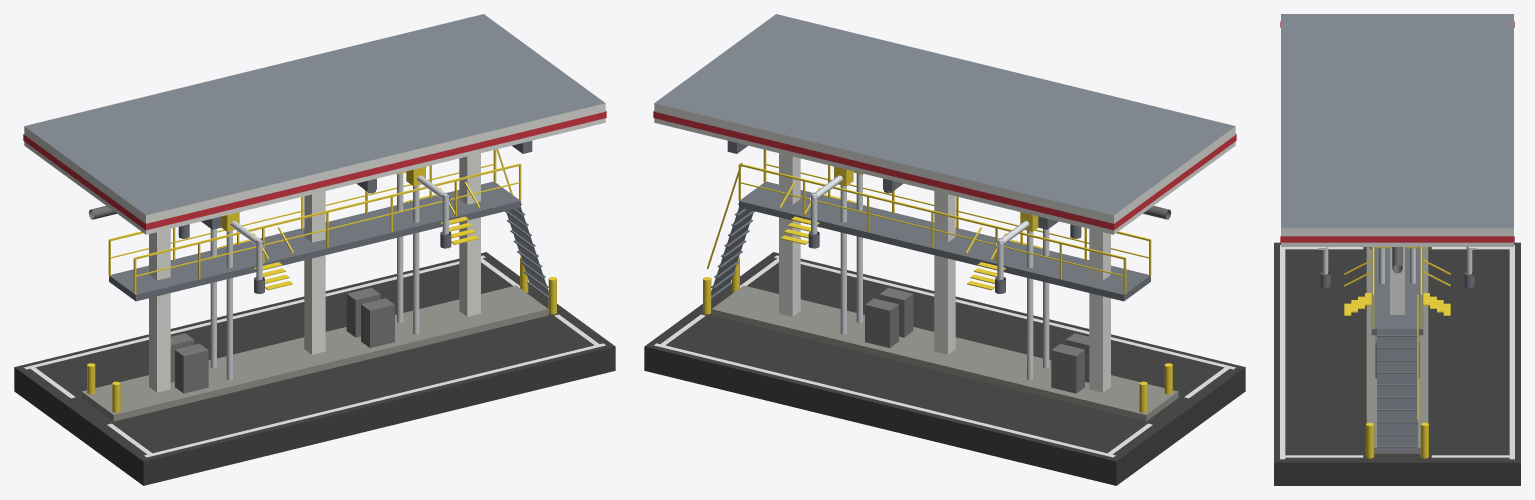
File: mashup-loading-top-prebuilt_close.fbx
3 views of the same model, side by side, from view 1: azimuth 30°, elevation 25°; view 2: azimuth 150°, elevation 25°; view 3: azimuth 270°, elevation 25° (orthographic). The views are drawn at different scales.
Parts seen in each view (by area): view 1: a1018/0/mashup-loading-top-prebuilt_close; view 2: a1018/0/mashup-loading-top-prebuilt_close; view 3: a1018/0/mashup-loading-top-prebuilt_close.
Part boxes in pixels (box(x1,y1,x2,y2)): a1018/0/mashup-loading-top-prebuilt_close: box(14, 14, 615, 485); a1018/0/mashup-loading-top-prebuilt_close: box(644, 14, 1245, 485); a1018/0/mashup-loading-top-prebuilt_close: box(1274, 14, 1520, 485).
Size of the model in its own units: 15.2 by 8.2 by 7.2.
